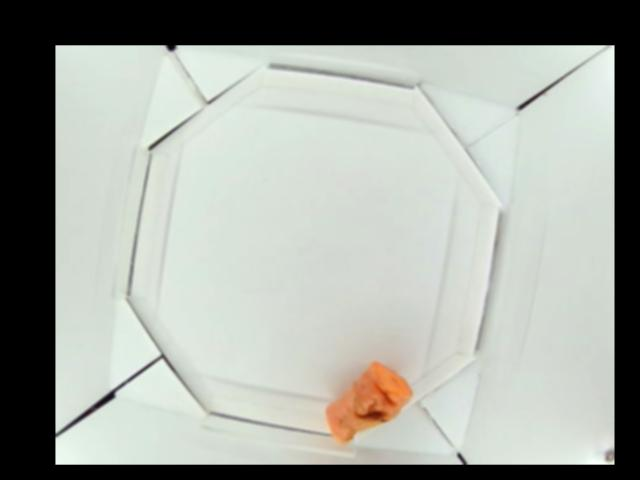Carrot: (327, 361, 413, 442)
